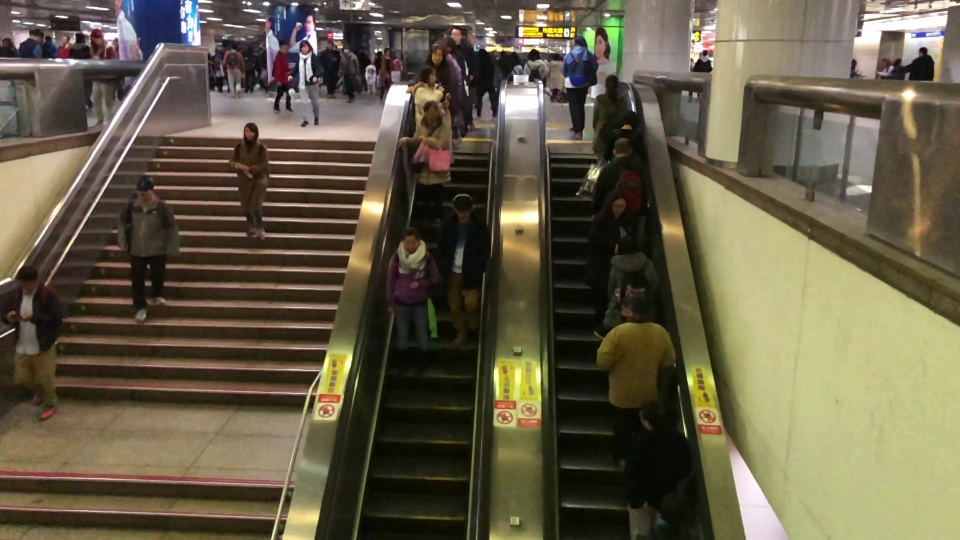person_head: (662, 493, 688, 523), (621, 295, 652, 319), (639, 400, 666, 425), (15, 265, 38, 289), (451, 194, 473, 219), (400, 227, 421, 251), (134, 180, 153, 202), (612, 137, 632, 157), (608, 192, 626, 213), (614, 235, 635, 252), (619, 109, 638, 127), (603, 73, 621, 91), (420, 66, 437, 85), (242, 122, 259, 140), (423, 101, 439, 119), (430, 44, 444, 64), (452, 26, 462, 43), (28, 27, 41, 40), (299, 39, 313, 51), (573, 35, 587, 47), (91, 30, 102, 44), (74, 32, 86, 43), (279, 40, 289, 53), (881, 56, 890, 68), (528, 49, 539, 58), (918, 46, 928, 55), (3, 37, 11, 46), (229, 40, 237, 49), (327, 39, 334, 48), (61, 35, 69, 42), (894, 57, 901, 64), (343, 44, 349, 52), (702, 49, 708, 57), (384, 47, 389, 55), (369, 66, 373, 72)
person_vbox: (596, 296, 676, 466), (0, 265, 65, 422), (622, 400, 688, 540), (117, 180, 180, 323), (436, 193, 490, 349), (383, 227, 439, 377), (397, 101, 451, 223), (583, 192, 626, 342), (602, 235, 659, 328), (228, 122, 271, 241), (591, 137, 648, 222), (562, 36, 599, 140), (407, 45, 460, 113), (591, 73, 628, 161), (288, 40, 323, 128), (91, 30, 116, 125), (413, 66, 443, 131), (69, 32, 93, 109), (603, 109, 639, 160), (272, 39, 292, 114), (222, 40, 246, 99), (452, 27, 476, 80), (338, 43, 359, 103), (321, 39, 340, 99), (902, 47, 935, 80), (523, 49, 550, 81), (19, 27, 42, 58), (379, 47, 390, 101), (693, 48, 711, 73), (875, 56, 893, 79), (57, 34, 73, 57), (365, 65, 377, 95), (893, 57, 904, 80)
